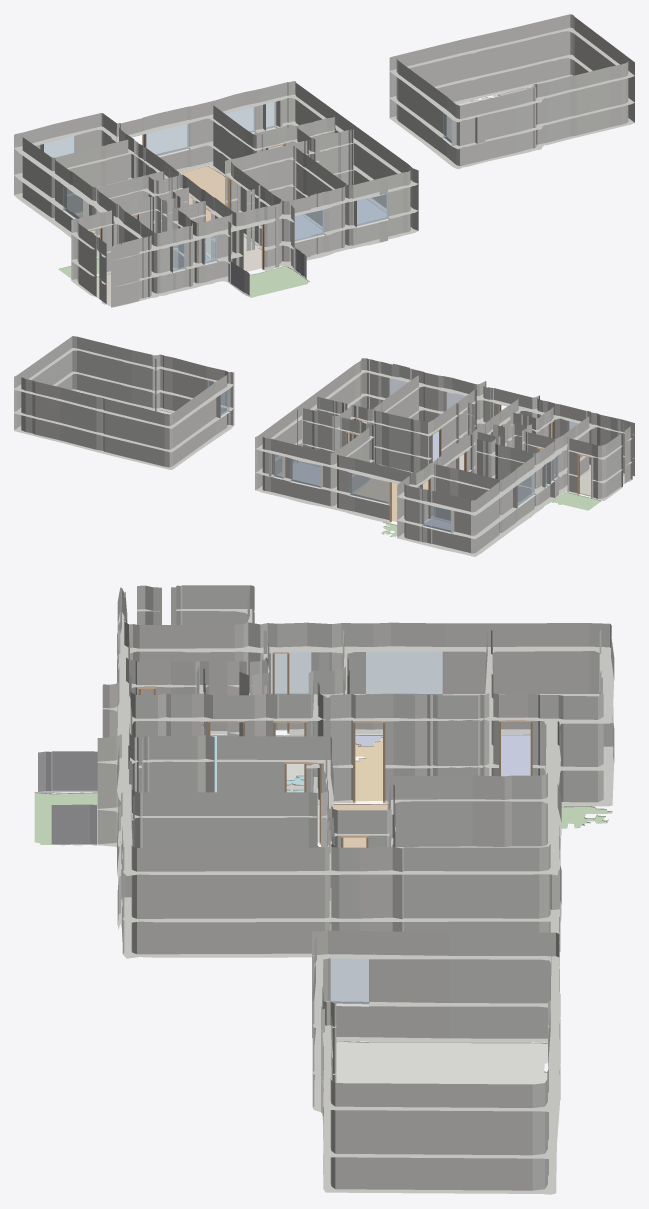
The picture shows the model from 3 angles, top to bottom: view 1: azimuth 30°, elevation 25°; view 2: azimuth 150°, elevation 25°; view 3: azimuth 270°, elevation 25°; orthographic projection. The views are drawn at different scales.
Parts seen in each view (by area): view 1: walls, floor_0_Outdoor, window_17, floor_4_Living_Room, floor_5_Bed_Room, railings, window_26, window_25, floor_11_Entry, window_15, window_20, window_16; view 2: walls, window_17, floor_4_Living_Room, window_16, window_15, floor_1_Outdoor, floor_7_Bed_Room, window_20; view 3: walls, floor_22_Undefined, railings, window_20, window_21, floor_3_Kitchen, window_24, floor_0_Outdoor, floor_8_Bed_Room.
Boxes of the visible parts, x1,y1,x2,y2 form: walls: [14, 14, 634, 307]; floor_0_Outdoor: [249, 266, 309, 297]; window_17: [146, 123, 189, 155]; floor_4_Living_Room: [164, 166, 224, 221]; floor_5_Bed_Room: [258, 199, 386, 245]; railings: [230, 247, 306, 296]; window_26: [357, 192, 388, 226]; window_25: [294, 209, 324, 241]; floor_11_Entry: [206, 236, 261, 271]; window_15: [44, 136, 75, 157]; window_20: [63, 185, 82, 218]; window_16: [226, 107, 255, 132]; walls: [14, 336, 634, 556]; window_17: [350, 473, 388, 503]; floor_4_Living_Room: [355, 479, 428, 521]; window_16: [290, 458, 320, 487]; window_15: [422, 504, 450, 532]; floor_1_Outdoor: [552, 490, 600, 510]; floor_7_Bed_Room: [281, 461, 319, 485]; window_20: [517, 473, 534, 506]; walls: [97, 585, 614, 1194]; floor_22_Undefined: [336, 1041, 547, 1084]; railings: [38, 751, 97, 845]; window_20: [366, 651, 442, 695]; window_21: [330, 956, 368, 1003]; floor_3_Kitchen: [355, 737, 382, 801]; window_24: [271, 652, 311, 694]; floor_0_Outdoor: [34, 792, 97, 844]; floor_8_Bed_Room: [501, 734, 530, 776].
Size of the model in its own units: 27.45 by 2.72 by 13.35.
